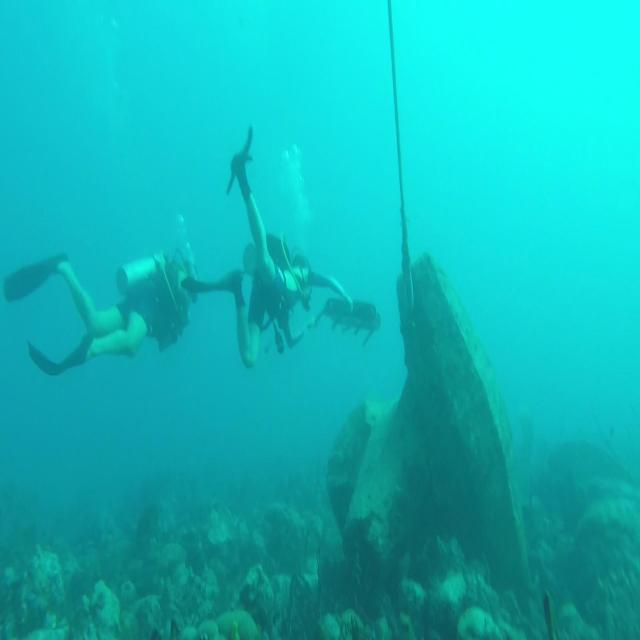human: (184, 130, 356, 372), (3, 242, 199, 376)
